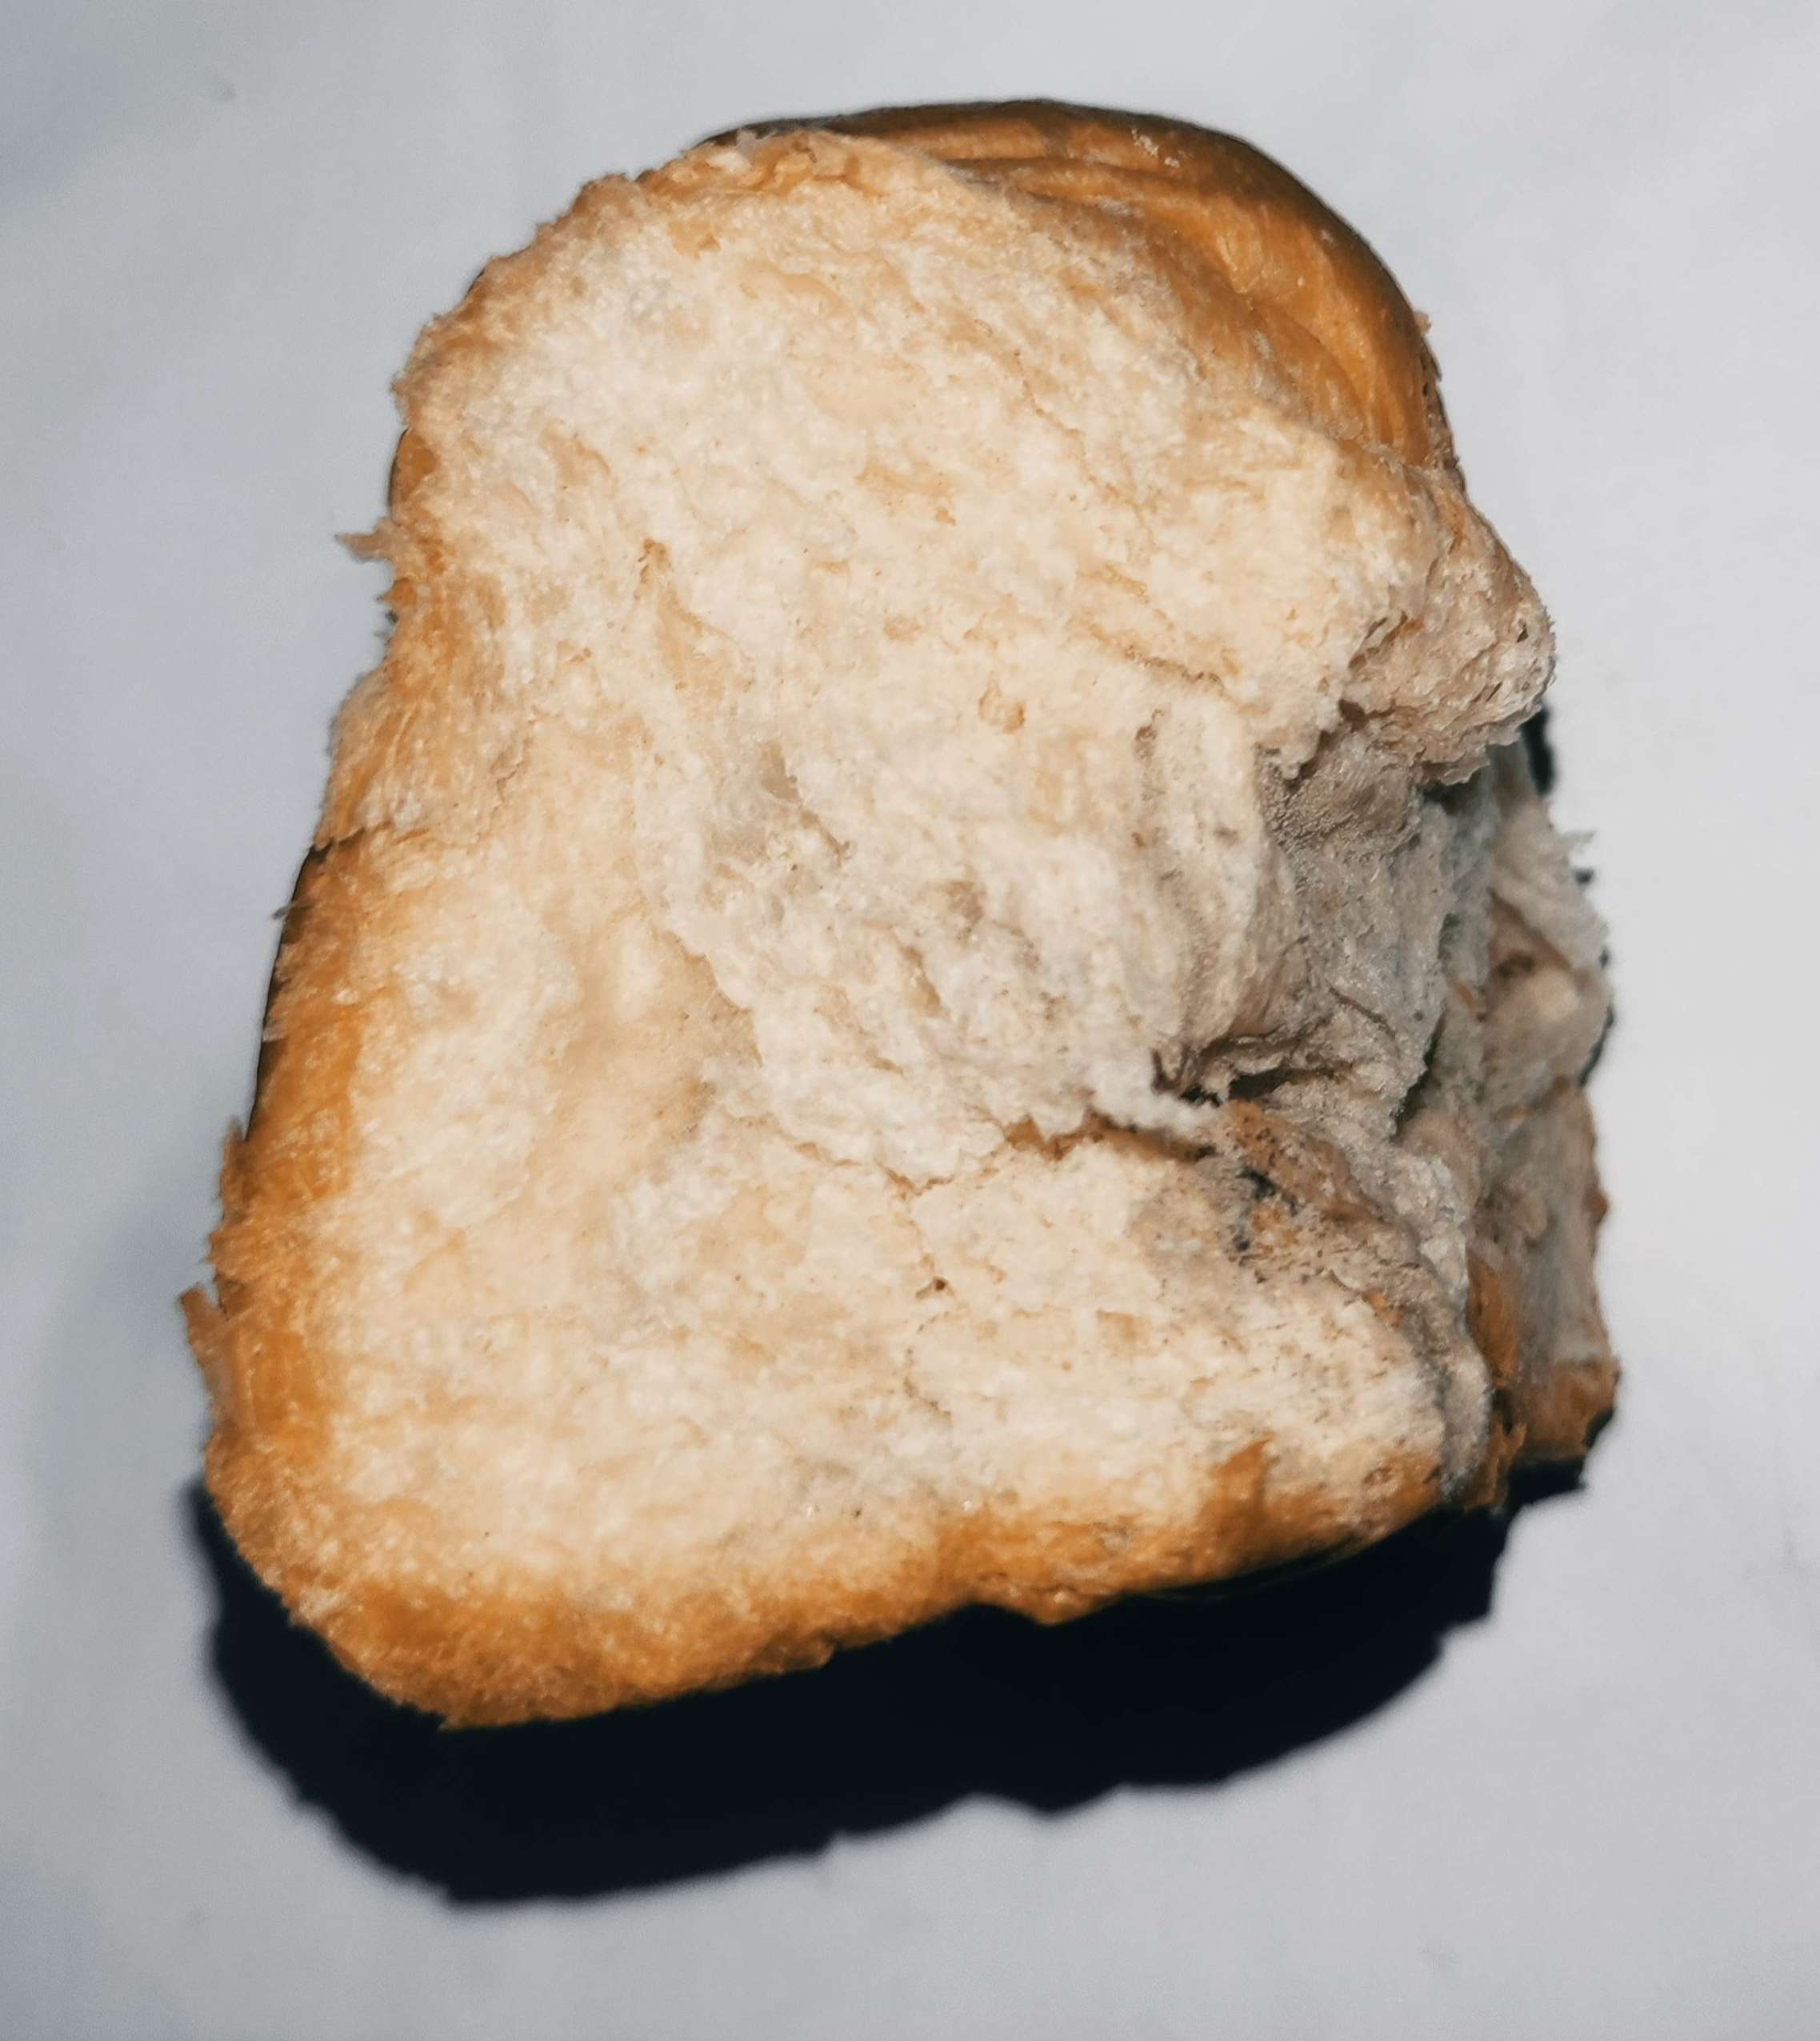mold_bread: (1135, 745, 1614, 1152), (1182, 1142, 1606, 1321), (892, 862, 1086, 1087), (1369, 539, 1541, 734), (715, 743, 847, 924), (1390, 1323, 1616, 1393), (1426, 1400, 1484, 1479)
